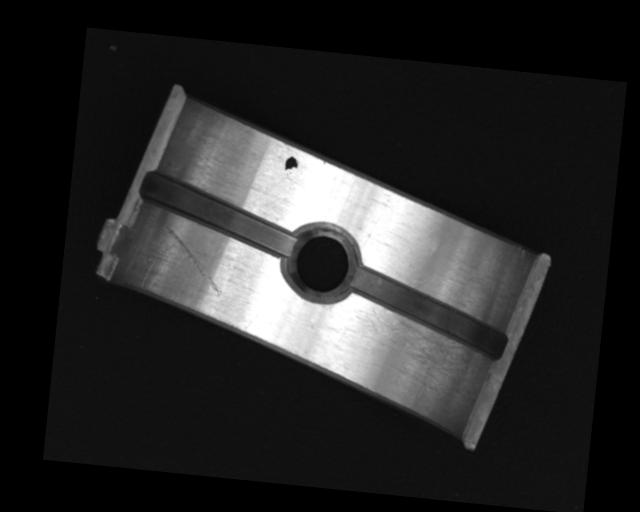blot: (283, 155, 298, 176)
gap: (344, 263, 511, 361), (133, 170, 300, 261)
hole: (281, 218, 361, 306)
nick: (158, 225, 227, 297)
scratch: (346, 303, 487, 399)
